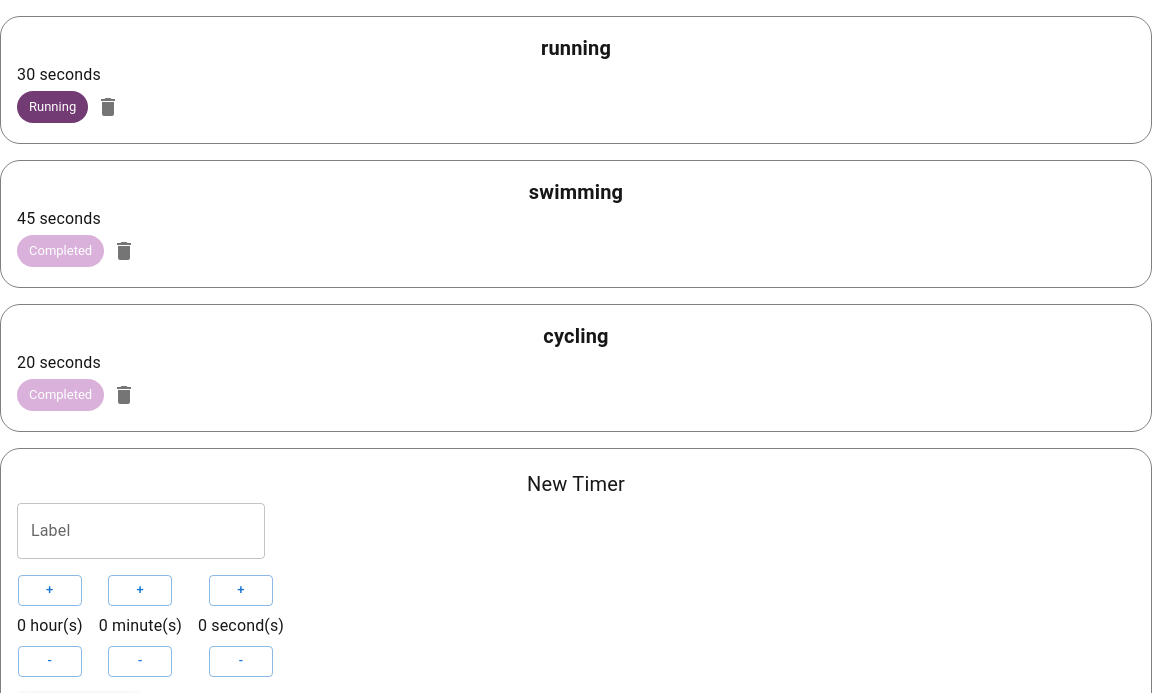
Scenario: Main › deletes timer when delete icon is pressed
Click the button named "delete" below "30".
click(108, 107)  # box [88, 87, 128, 127]
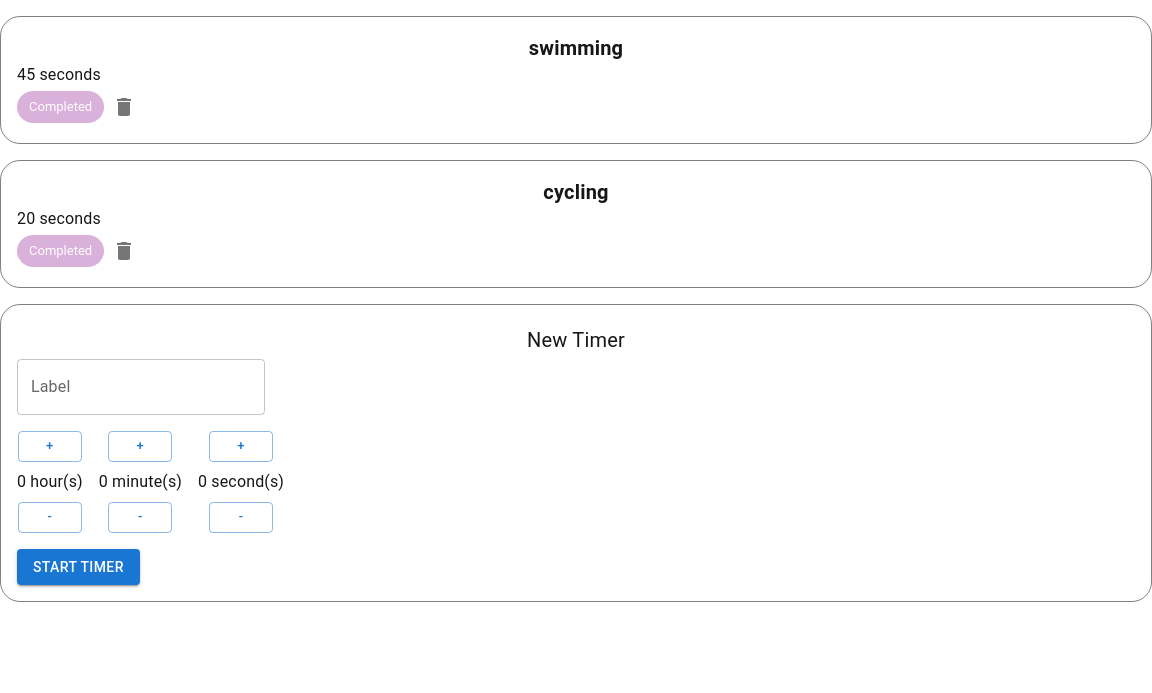
Now the number of buttons named "delete" is 2, box [104, 87, 144, 127]; [104, 231, 144, 271]
